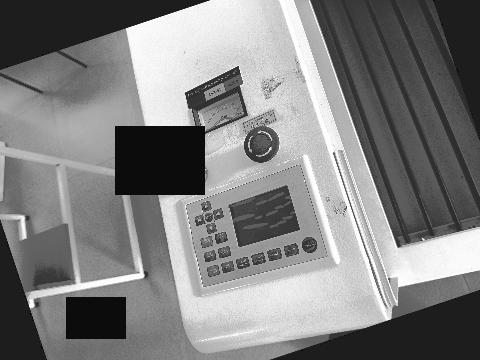Amp_Meter: (197, 93, 244, 130)
Display: (229, 186, 300, 247)
Down_button: (206, 222, 217, 234)
Emergency_Stop: (244, 126, 279, 163)
Enter_button: (200, 236, 213, 248)
Esc_button: (215, 232, 228, 244)
File_button: (221, 261, 234, 273)
Frame_button: (204, 250, 216, 262)
Left_button: (213, 209, 224, 220)
Max-Power_button: (236, 257, 250, 269)
Min-Power_button: (251, 253, 265, 265)
Origin_button: (218, 246, 231, 258)
Power_switch: (204, 165, 209, 181)
Pulse_button: (284, 244, 299, 257)
Reset_button: (302, 237, 317, 253)
Right_button: (195, 215, 204, 226)
Speed_button: (267, 248, 282, 261)
Start-Pause_button: (207, 265, 220, 277)
Up_button: (201, 201, 212, 212)
Z_U_button: (205, 212, 214, 222)
